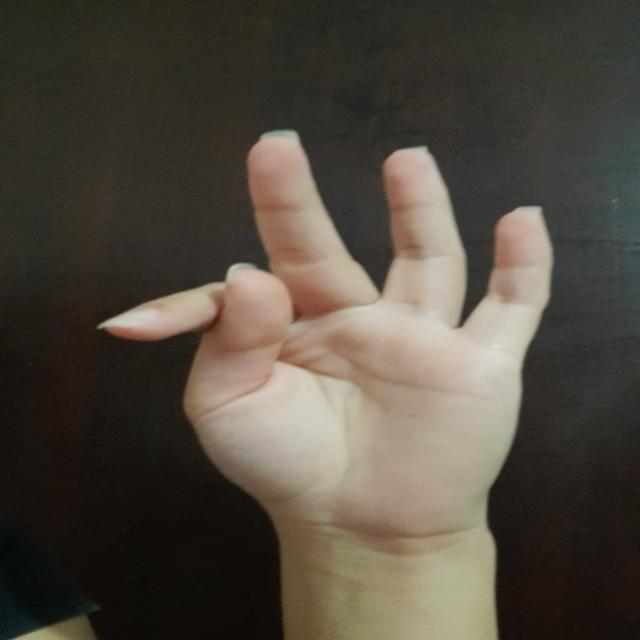T: (75, 126, 562, 522)
